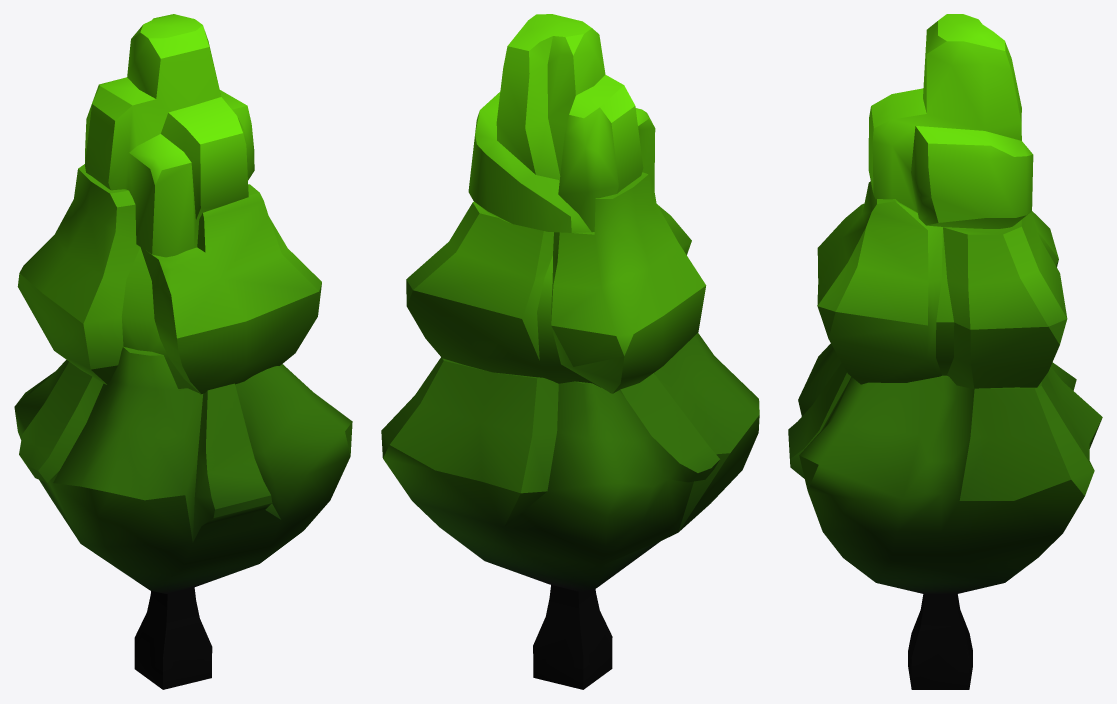
The model's file is FOL_Foliage_04.FBX.
3 renders of one model, left to right at view 1: azimuth 30°, elevation 25°; view 2: azimuth 150°, elevation 25°; view 3: azimuth 270°, elevation 25°, orthographic. The views are drawn at different scales.
Visible parts, largest first — view 1: FOL_Foliage_04; view 2: FOL_Foliage_04; view 3: FOL_Foliage_04.
Part boxes in pixels (<box>): FOL_Foliage_04: <box>14,14,352,689</box>; FOL_Foliage_04: <box>381,14,759,689</box>; FOL_Foliage_04: <box>788,14,1102,689</box>.
Bounding box in the file's own units: 0.0827 × 0.1902 × 0.0819.
